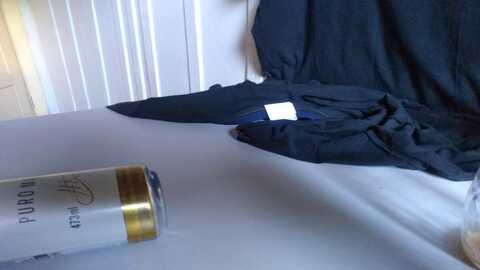bohemia: (1, 164, 166, 253)
